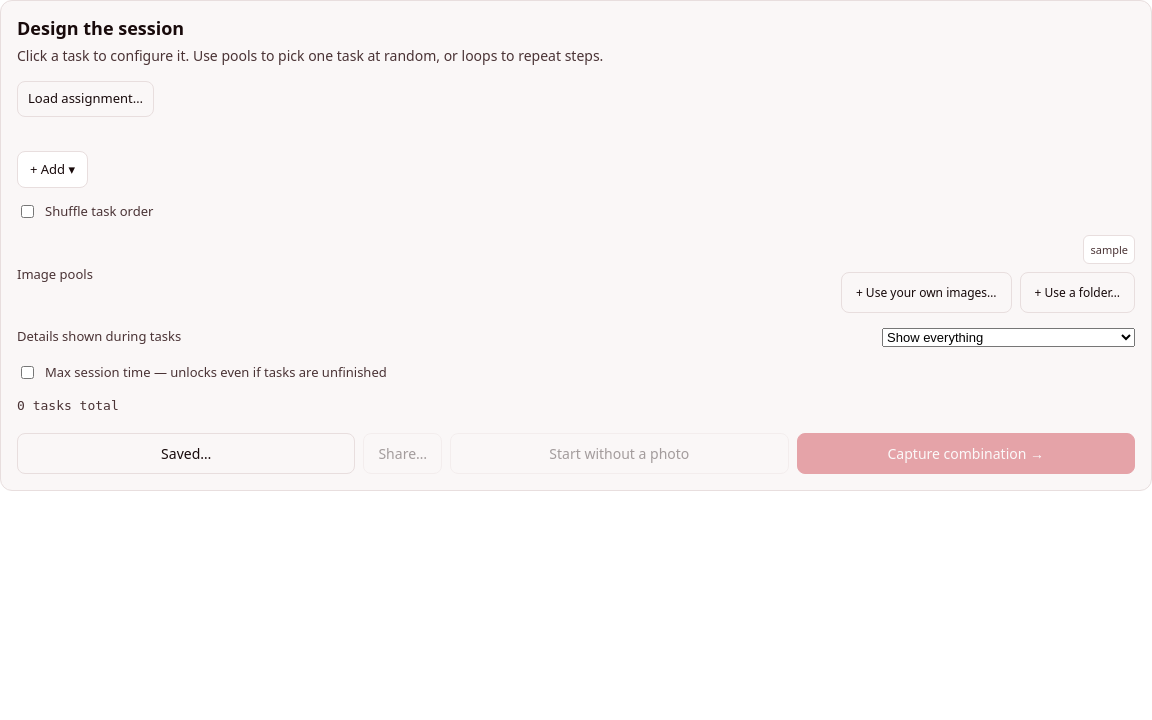
FlowBuilder › opens the task editor when adding a task via AddMenu
The first "+ Add" button is the top-level one.
Click the button "+ Add ▾".
click(52, 169)  # box [17,151,88,188]
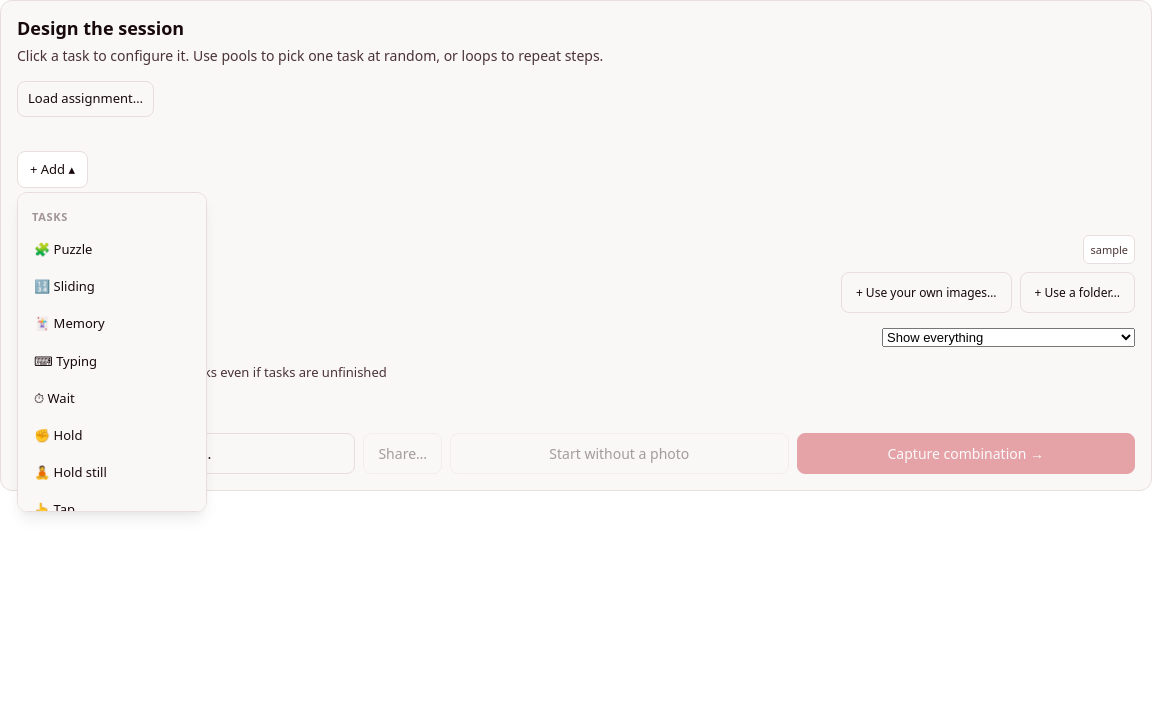
Click the button "⏱ Wait".
click(112, 398)  # box [24,380,200,417]
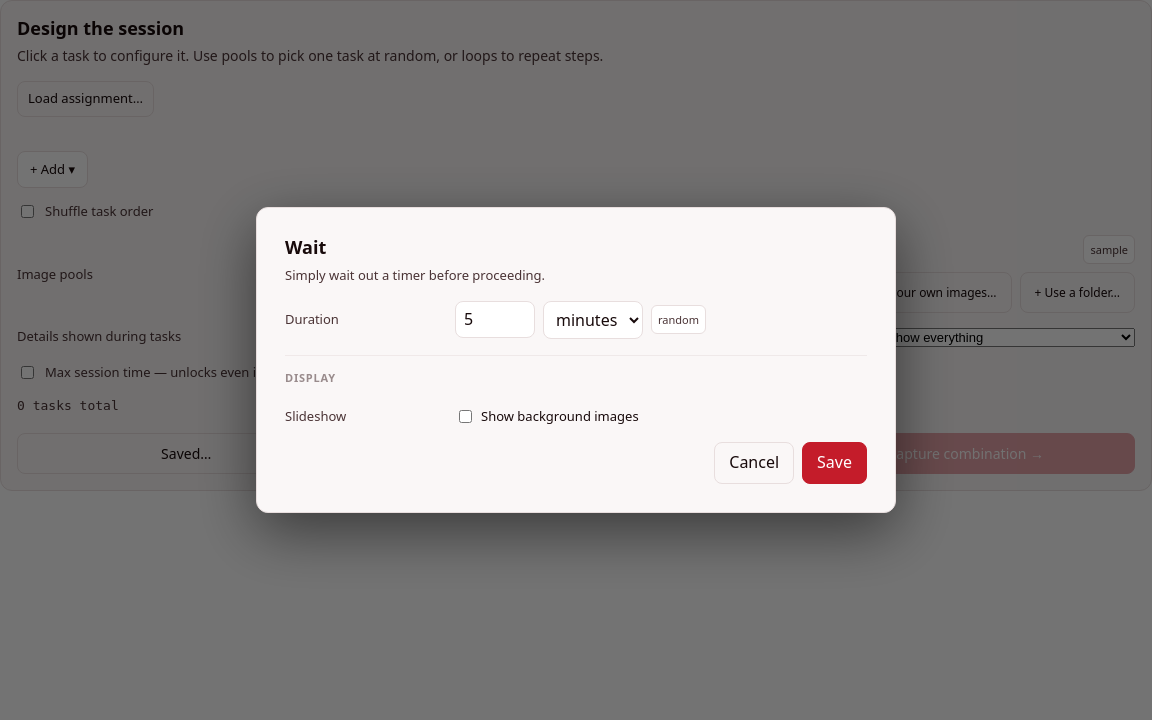
Now the dialog is shown, box [256,208,896,512]
Now the heading "Wait" is shown, box [285,236,326,260]
